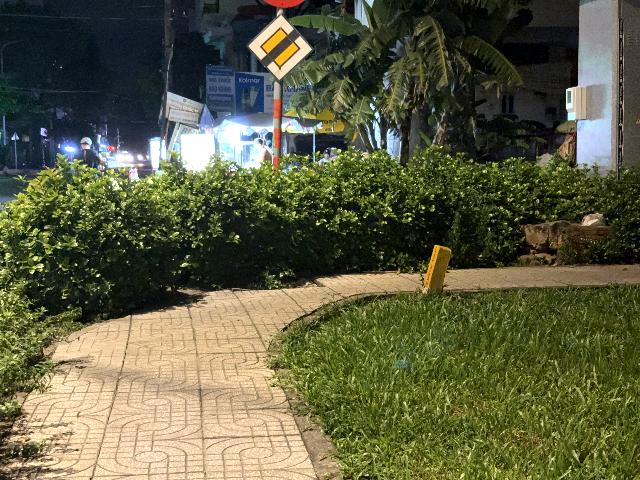het-duong-uu-tien: (245, 12, 313, 83)
